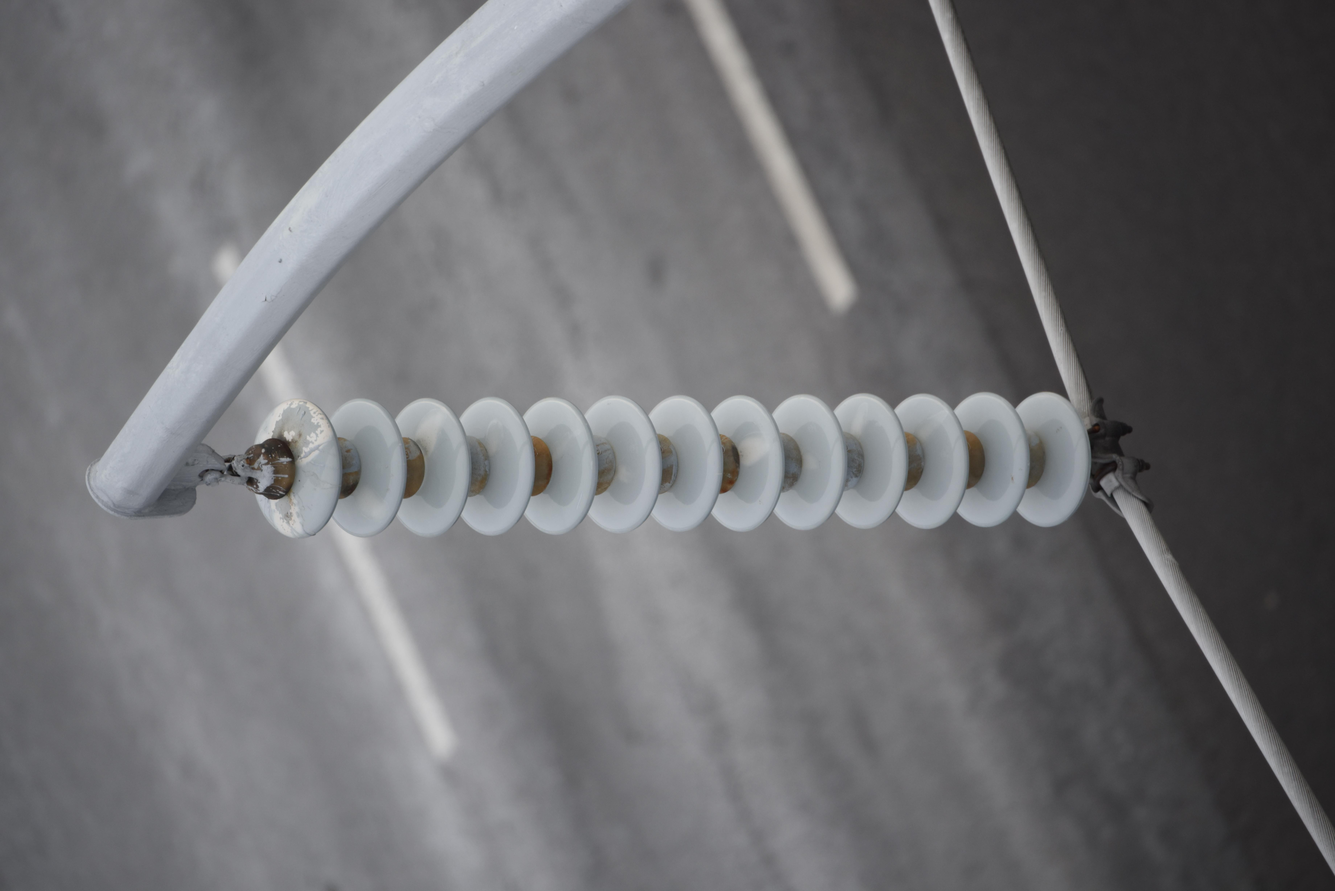Flashover: (265, 399, 331, 462), (260, 490, 311, 538)
insulator: (248, 392, 1096, 543)
